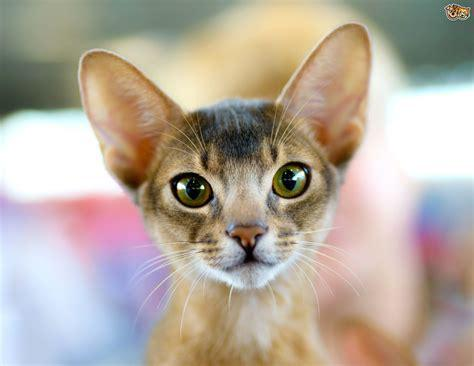cat: (77, 22, 372, 366)
